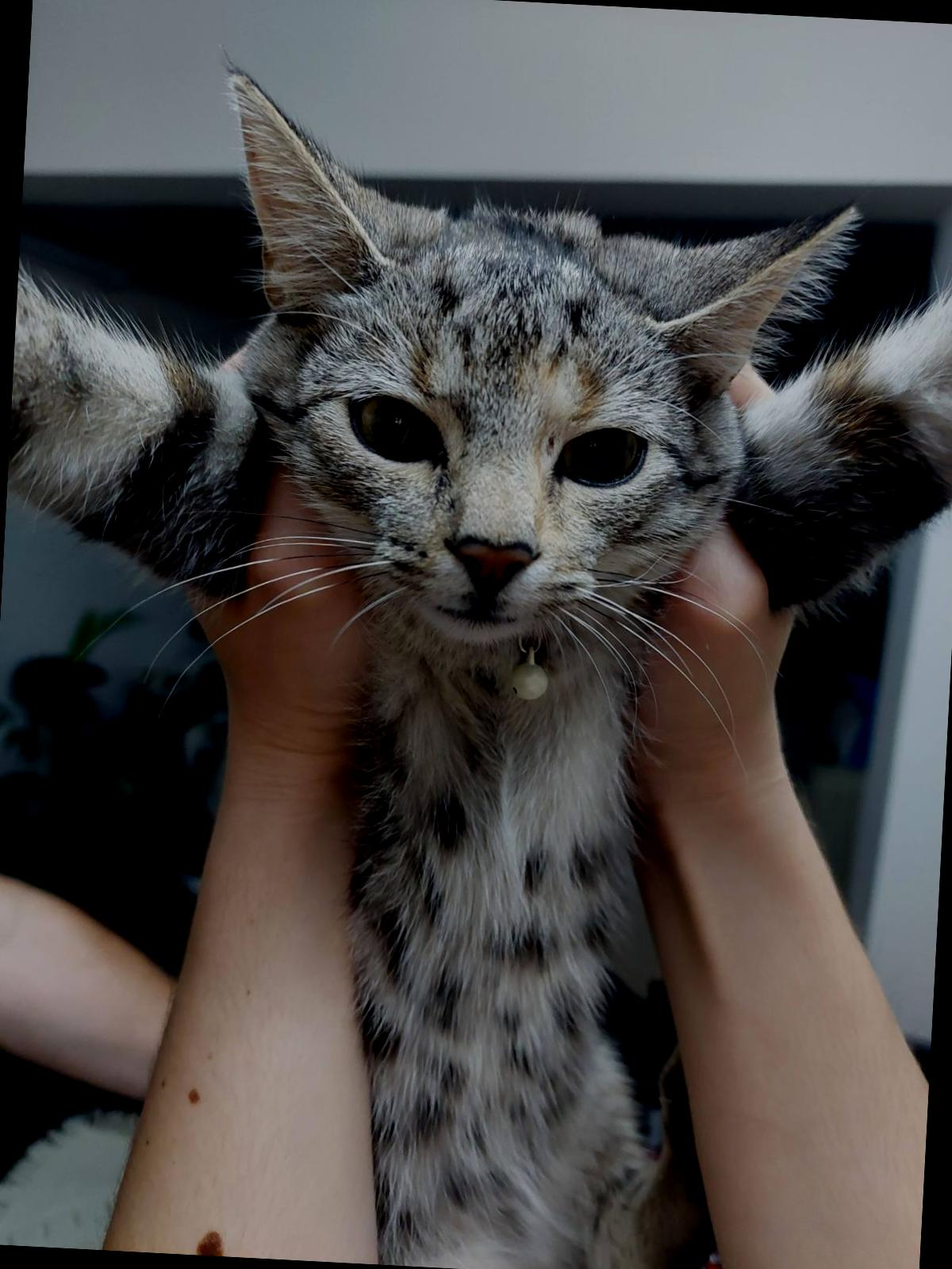macka: (0, 48, 952, 1269)
